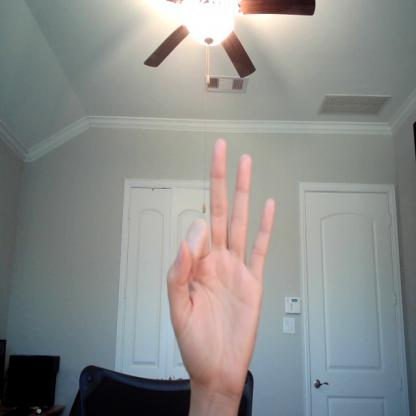nine: (167, 138, 282, 391)
